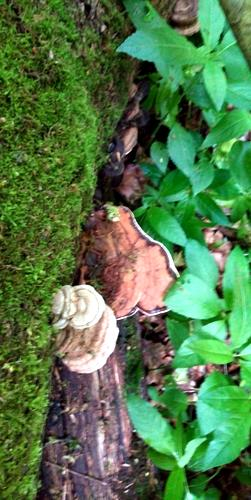Ganoderma - Fruit Body: (52, 200, 181, 371)
